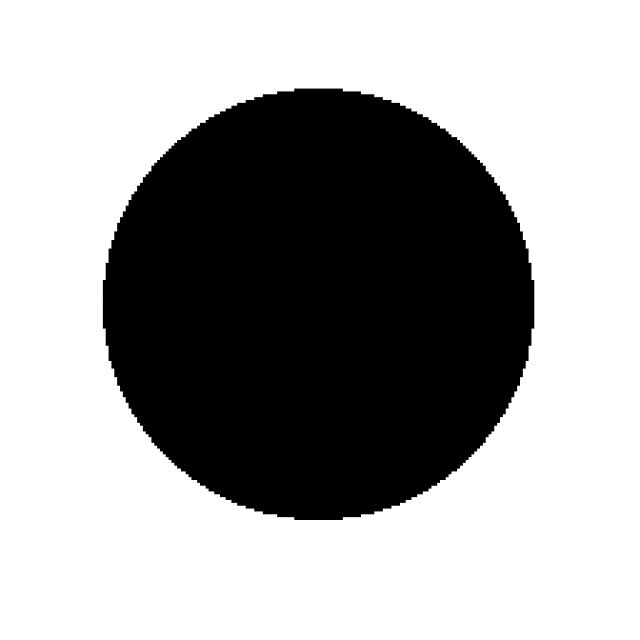Circle: (64, 56, 544, 538)
